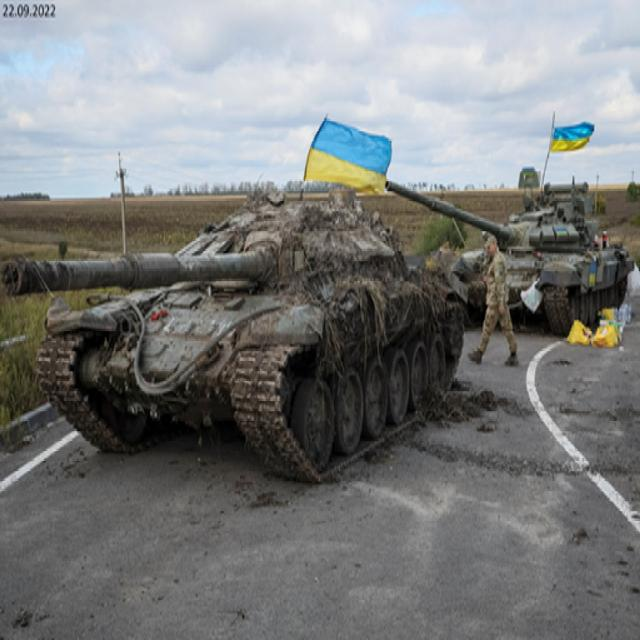TANK: (4, 169, 468, 480), (383, 173, 632, 344)
